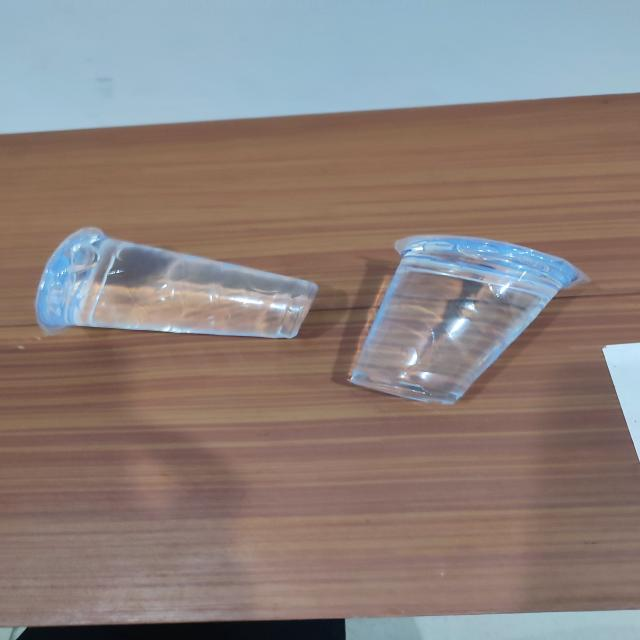air gelas: (335, 230, 580, 404), (19, 220, 326, 347)
